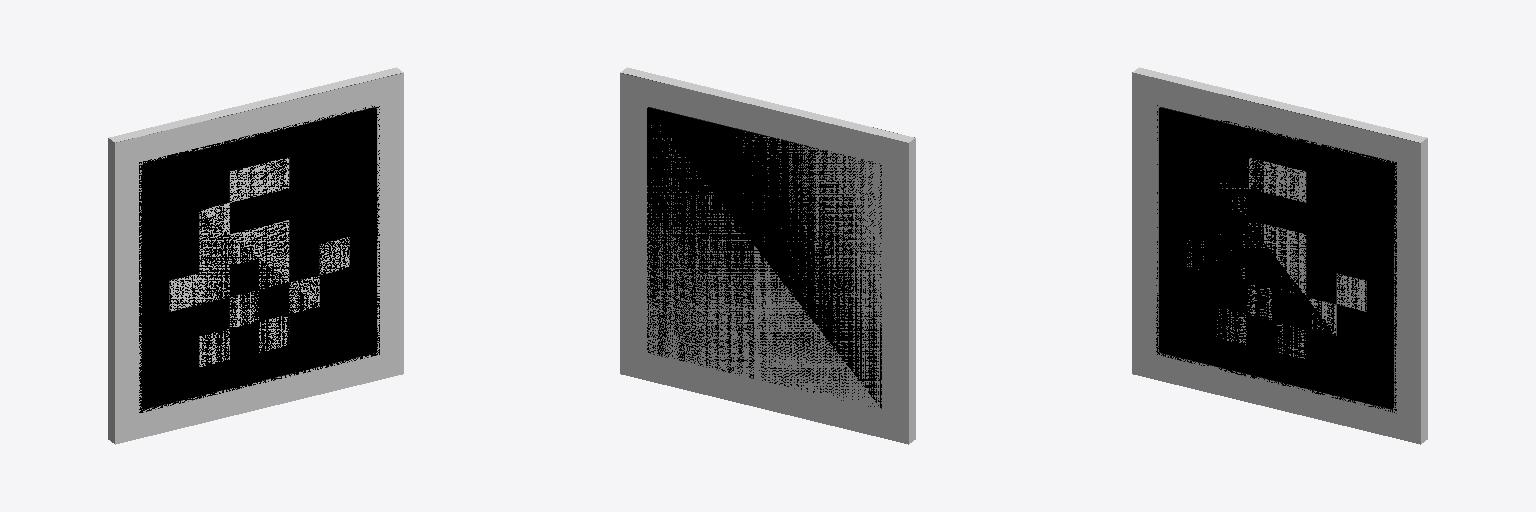
3 views of the same model, side by side, from view 1: azimuth 30°, elevation 25°; view 2: azimuth 150°, elevation 25°; view 3: azimuth 330°, elevation 25° (orthographic).
Parts seen in each view (by area): view 1: Cube.002; view 2: Cube.002; view 3: Cube.002.
Part boxes in pixels (bbox=[...]): Cube.002: bbox=[108, 67, 403, 444]; Cube.002: bbox=[620, 67, 915, 444]; Cube.002: bbox=[1132, 67, 1427, 444].
Size of the model in its own units: 0.24 by 0.24 by 0.01.
1 materials, 1 textured.